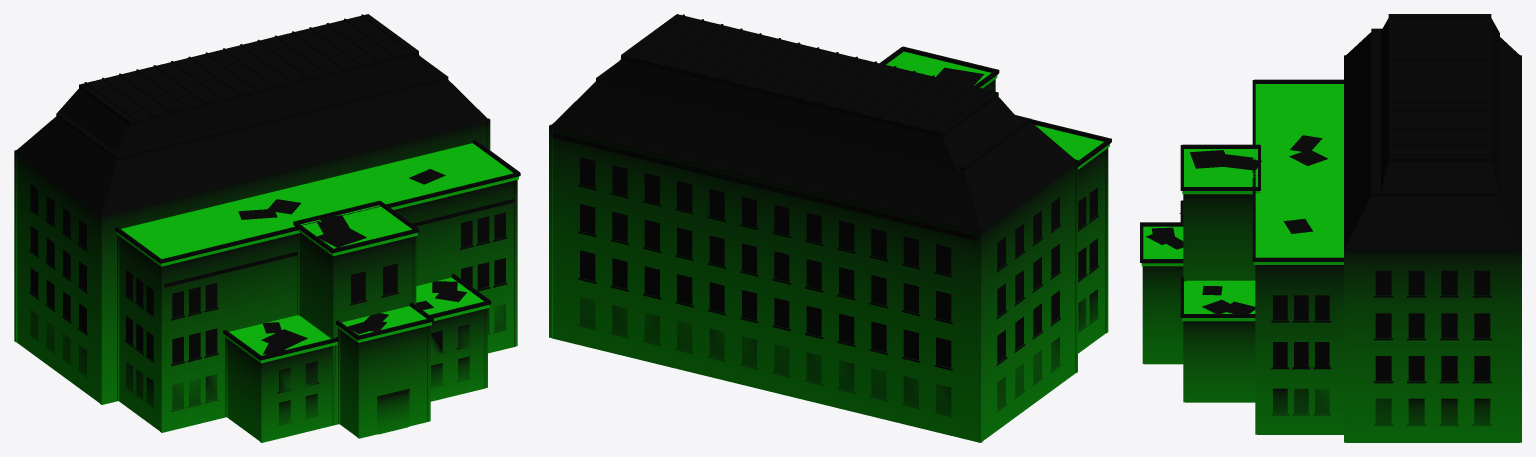
Rendered from s_main.glb.
3 views of the same model, side by side, from view 1: azimuth 30°, elevation 25°; view 2: azimuth 150°, elevation 25°; view 3: azimuth 270°, elevation 25° (orthographic). The views are drawn at different scales.
Parts seen in each view (by area): view 1: lod0; view 2: lod0; view 3: lod0.
Part boxes in pixels (x1,y1,x2,y2): lod0: (14,14,520,442); lod0: (549,14,1111,442); lod0: (1140,14,1521,442).
Size of what is drawn, in the model's own units: 42.7 by 27.01 by 35.65.
